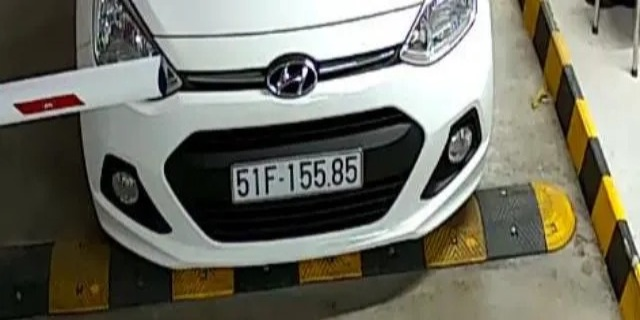bien_so: (233, 153, 358, 195)
